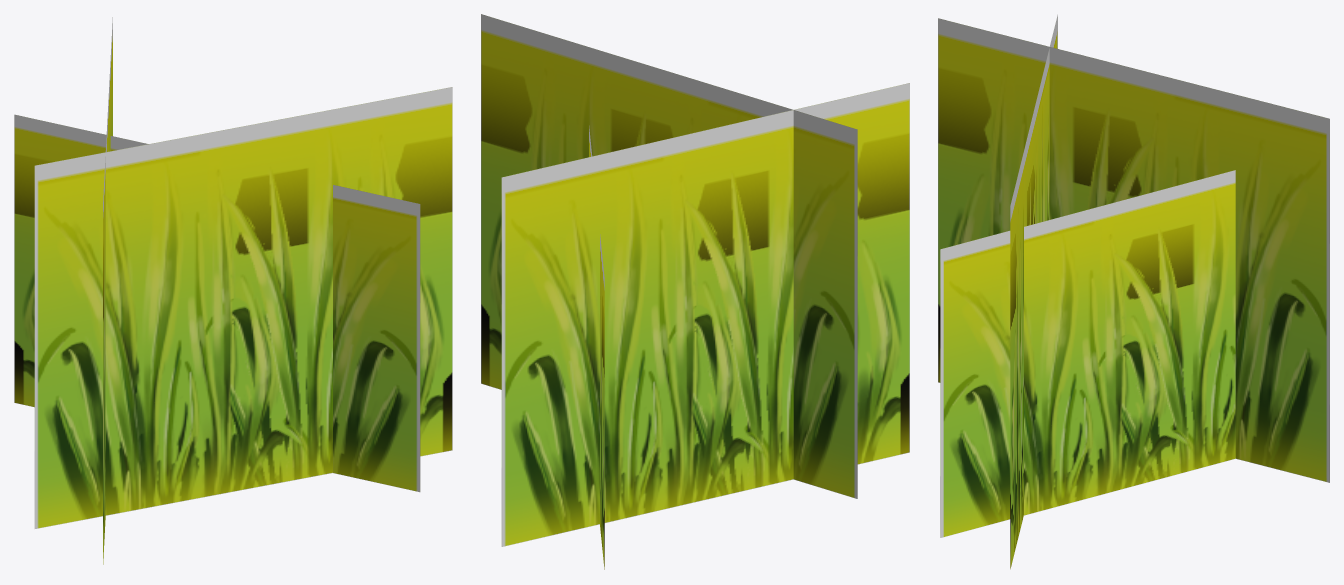
File: SM_ENV_PLANT_grass_village.glb
The picture shows the model from 3 angles, left to right: view 1: azimuth 30°, elevation 25°; view 2: azimuth 150°, elevation 25°; view 3: azimuth 270°, elevation 25°; orthographic projection.
Visible parts, largest first — view 1: SM_ENV_PLANT_grass_village_EXPORT; view 2: SM_ENV_PLANT_grass_village_EXPORT; view 3: SM_ENV_PLANT_grass_village_EXPORT.
Boxes of the visible parts, x1,y1,x2,y2 form: SM_ENV_PLANT_grass_village_EXPORT: (14,17,452,564); SM_ENV_PLANT_grass_village_EXPORT: (481,14,909,569); SM_ENV_PLANT_grass_village_EXPORT: (938,14,1329,569).
Bounding box in the file's own units: 0.5757 × 0.5073 × 0.4948.
1 material, 1 textured.
